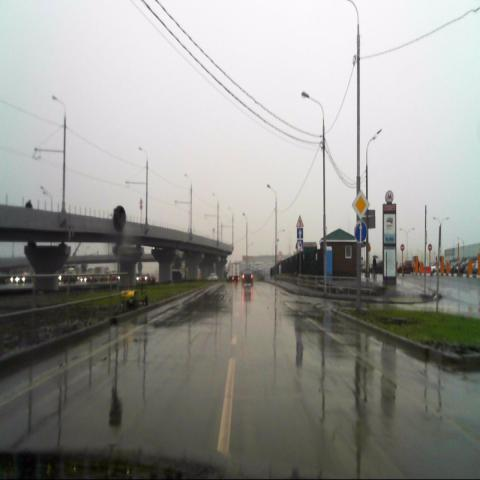4_1_1: (355, 220, 367, 242)
